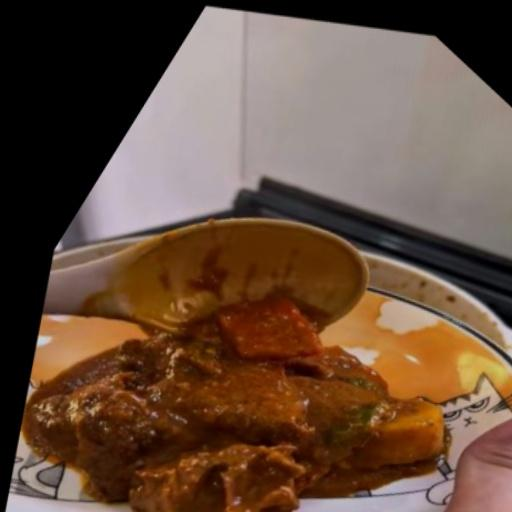pork caldereta: (16, 299, 443, 511)
